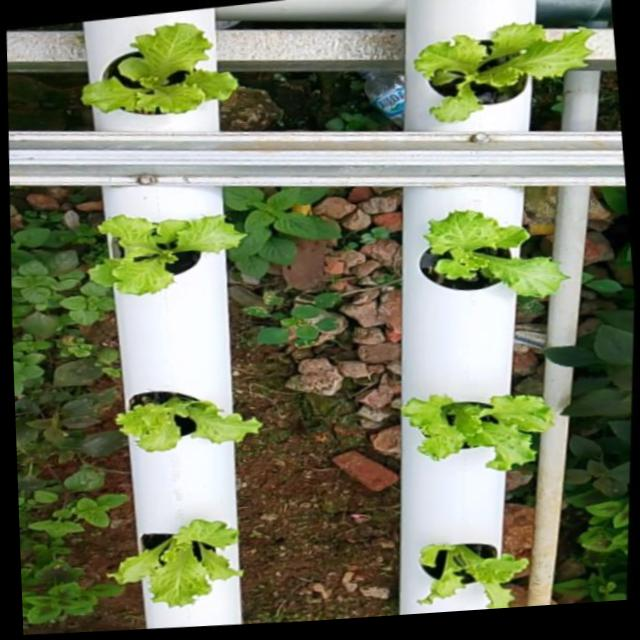Baby: (421, 32, 601, 131), (89, 28, 244, 135), (421, 211, 570, 299), (96, 219, 255, 300), (403, 395, 557, 472), (112, 520, 246, 607), (119, 392, 265, 453), (421, 544, 531, 609)
